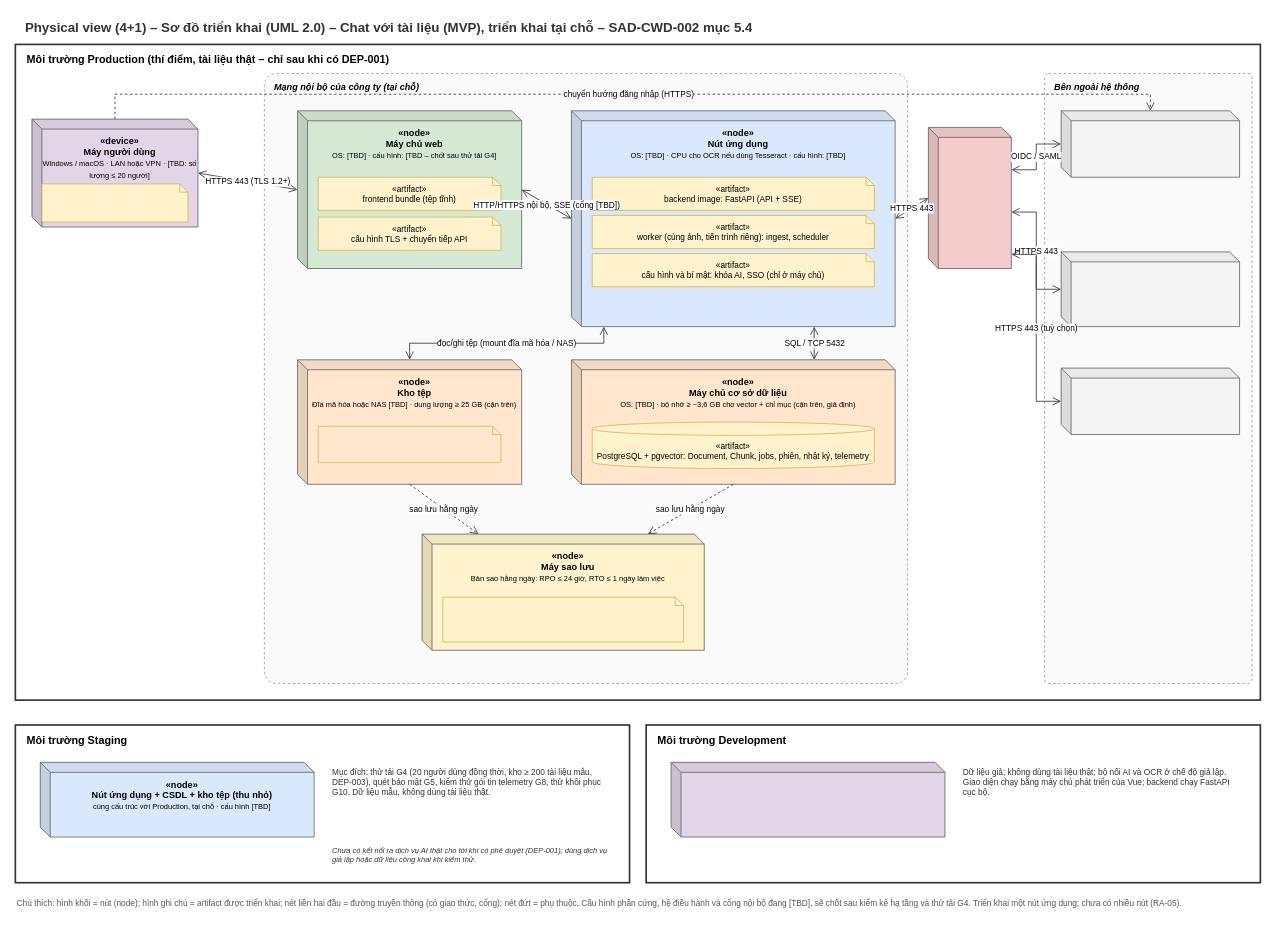
This 1282x939 diagram has some shape labels left out. The shapes that lost their labels are listed below. From the top down, each one's centre as x and y in pixels, then its label:
At (x=1150, y=143): "«external» SSO công ty (IdP) OIDC hoặc SAML [TBD – PD-001]".
At (x=114, y=202): "«artifact» Vue SPA (chạy trong Chrome / Edge ≥ 1280 px)".
At (x=969, y=198): "«node» Tường lửa / egress allow-list chỉ cho SSO và dịch vụ AI / OCR đã duyệt".
At (x=1150, y=289): "«external» Dịch vụ AI bên ngoài nhúng + sinh câu trả lời [TBD – AD-06]; DEP-001".
At (x=1150, y=401): "«external» Dịch vụ OCR đám mây tuỳ chọn, nếu chọn sau DEP-005".
At (x=409, y=444): "«artifact» PDF gốc (chỉ truy cập qua mô-đun storage)".
At (x=563, y=619): "«artifact» bản sao lưu DB + ảnh chụp kho tệp (có ngoại lệ BR-029, Q-A3)".
At (x=807, y=799): "«device» Máy lập trình viên chạy cả ngăn xếp cục bộ [TBD: Docker Compose]".
